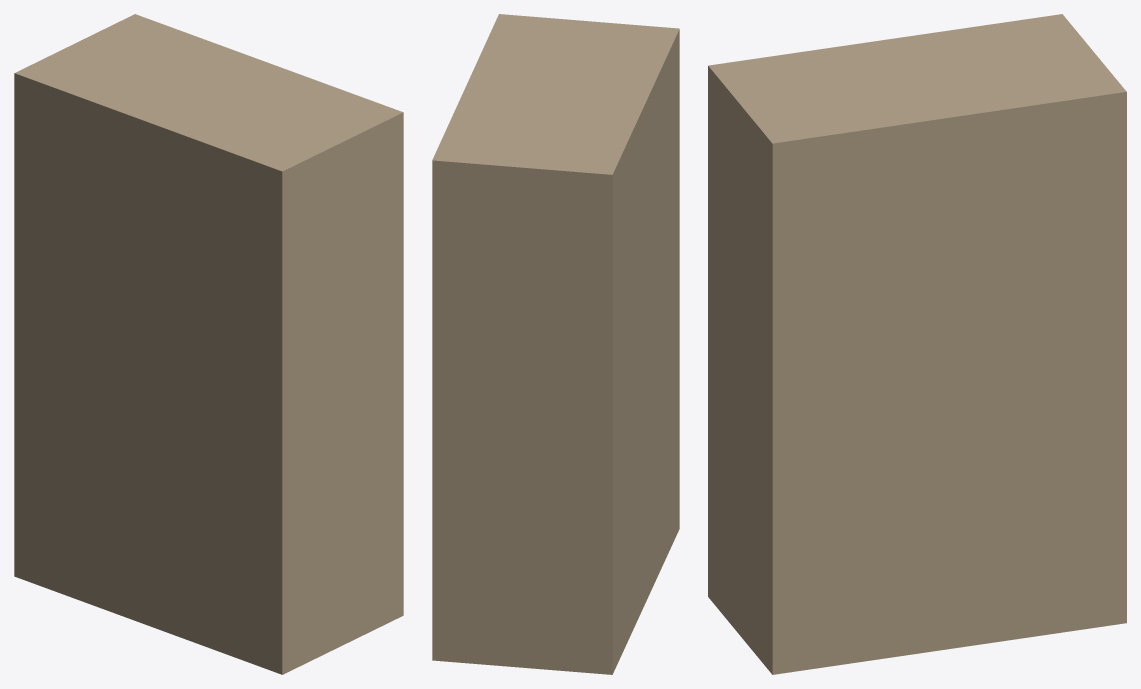
Rendered from bld_107610401.dae.
The picture shows the model from 3 angles, left to right: view 1: azimuth 30°, elevation 25°; view 2: azimuth 150°, elevation 25°; view 3: azimuth 270°, elevation 25°; orthographic projection. The views are drawn at different scales.
Parts seen in each view (by area): view 1: bld_107610401; view 2: bld_107610401; view 3: bld_107610401.
Part boxes in pixels (x1,y1,x2,y2): bld_107610401: (14, 14, 403, 674); bld_107610401: (432, 14, 679, 674); bld_107610401: (708, 14, 1126, 674).
Bounding box in the file's own units: 4.19 × 5.71 × 8.
